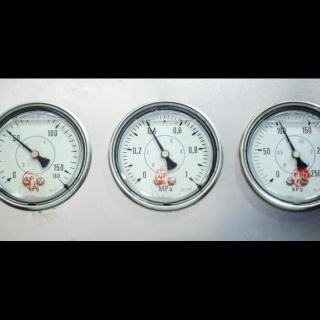gauge: (106, 98, 222, 214), (0, 100, 91, 214), (238, 99, 320, 217), (182, 170, 200, 188), (131, 170, 149, 187), (264, 170, 281, 187), (51, 172, 69, 188), (1, 172, 15, 186), (160, 149, 169, 159), (30, 149, 38, 159), (292, 149, 300, 159), (276, 118, 282, 126), (3, 128, 11, 134), (143, 118, 149, 125)
